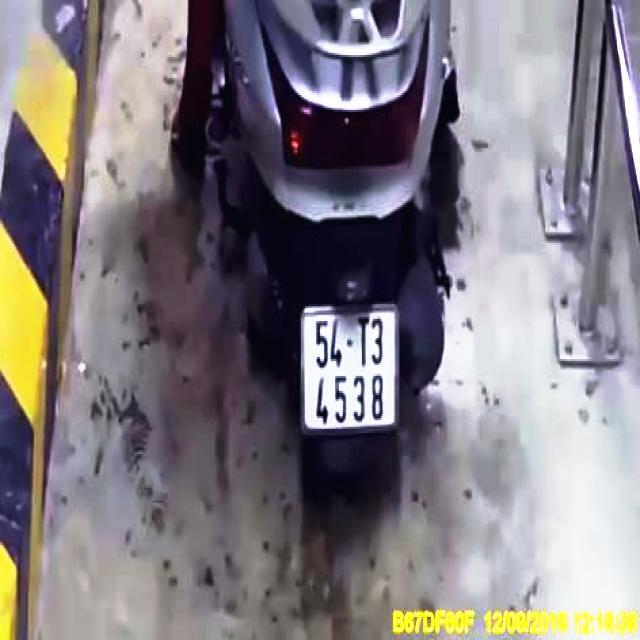license_plate: (307, 309, 396, 428)
